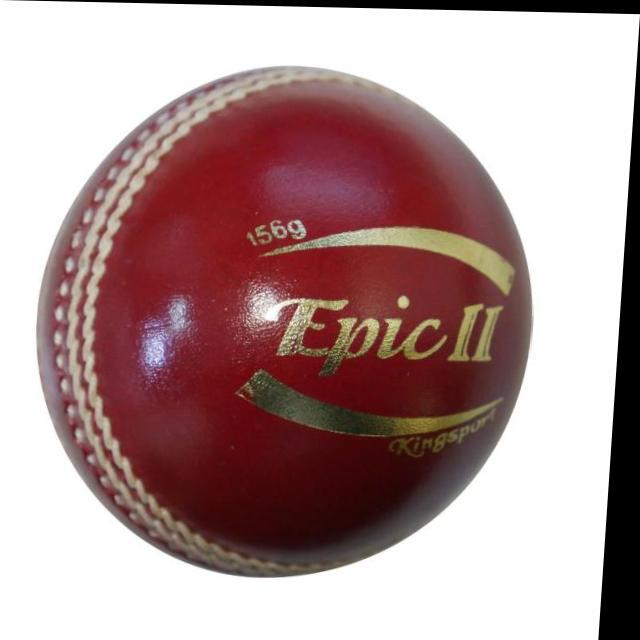cricket ball: (41, 63, 537, 577)
